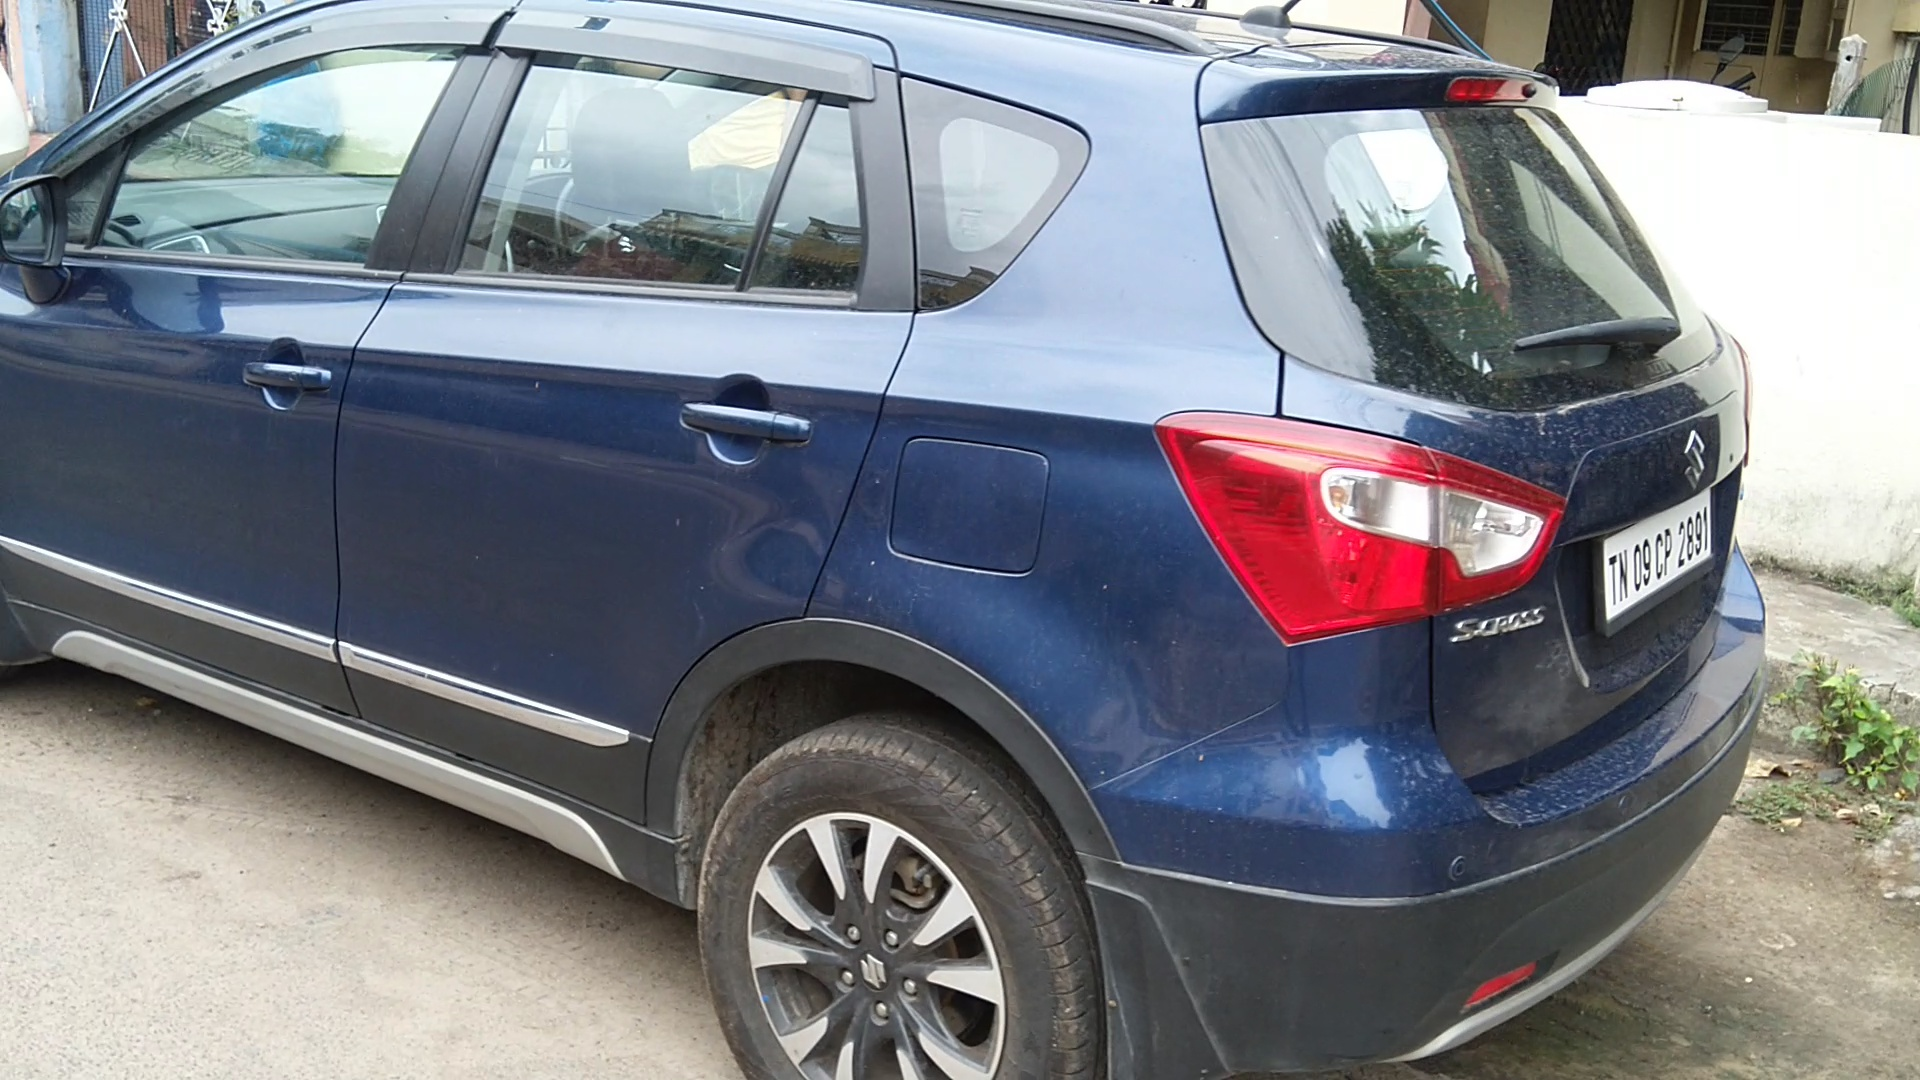alloy_wheel: (711, 725, 1085, 1080)
